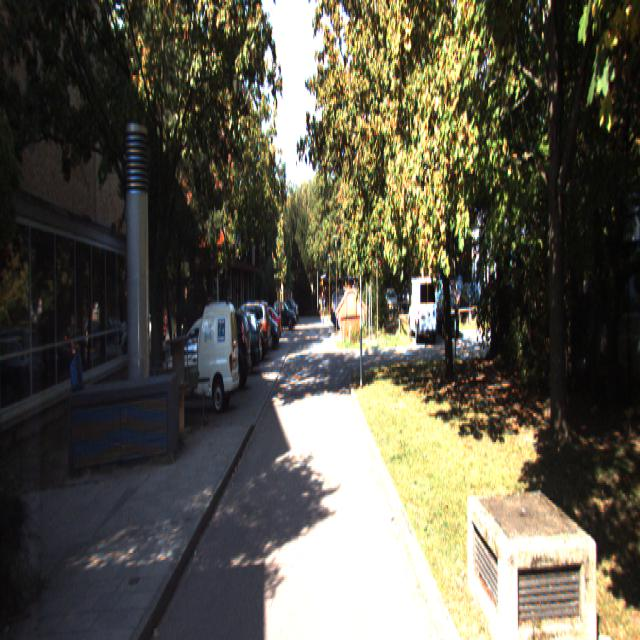Car: (163, 297, 240, 416), (186, 307, 253, 394), (207, 312, 262, 376), (220, 300, 272, 366), (408, 275, 439, 345)
